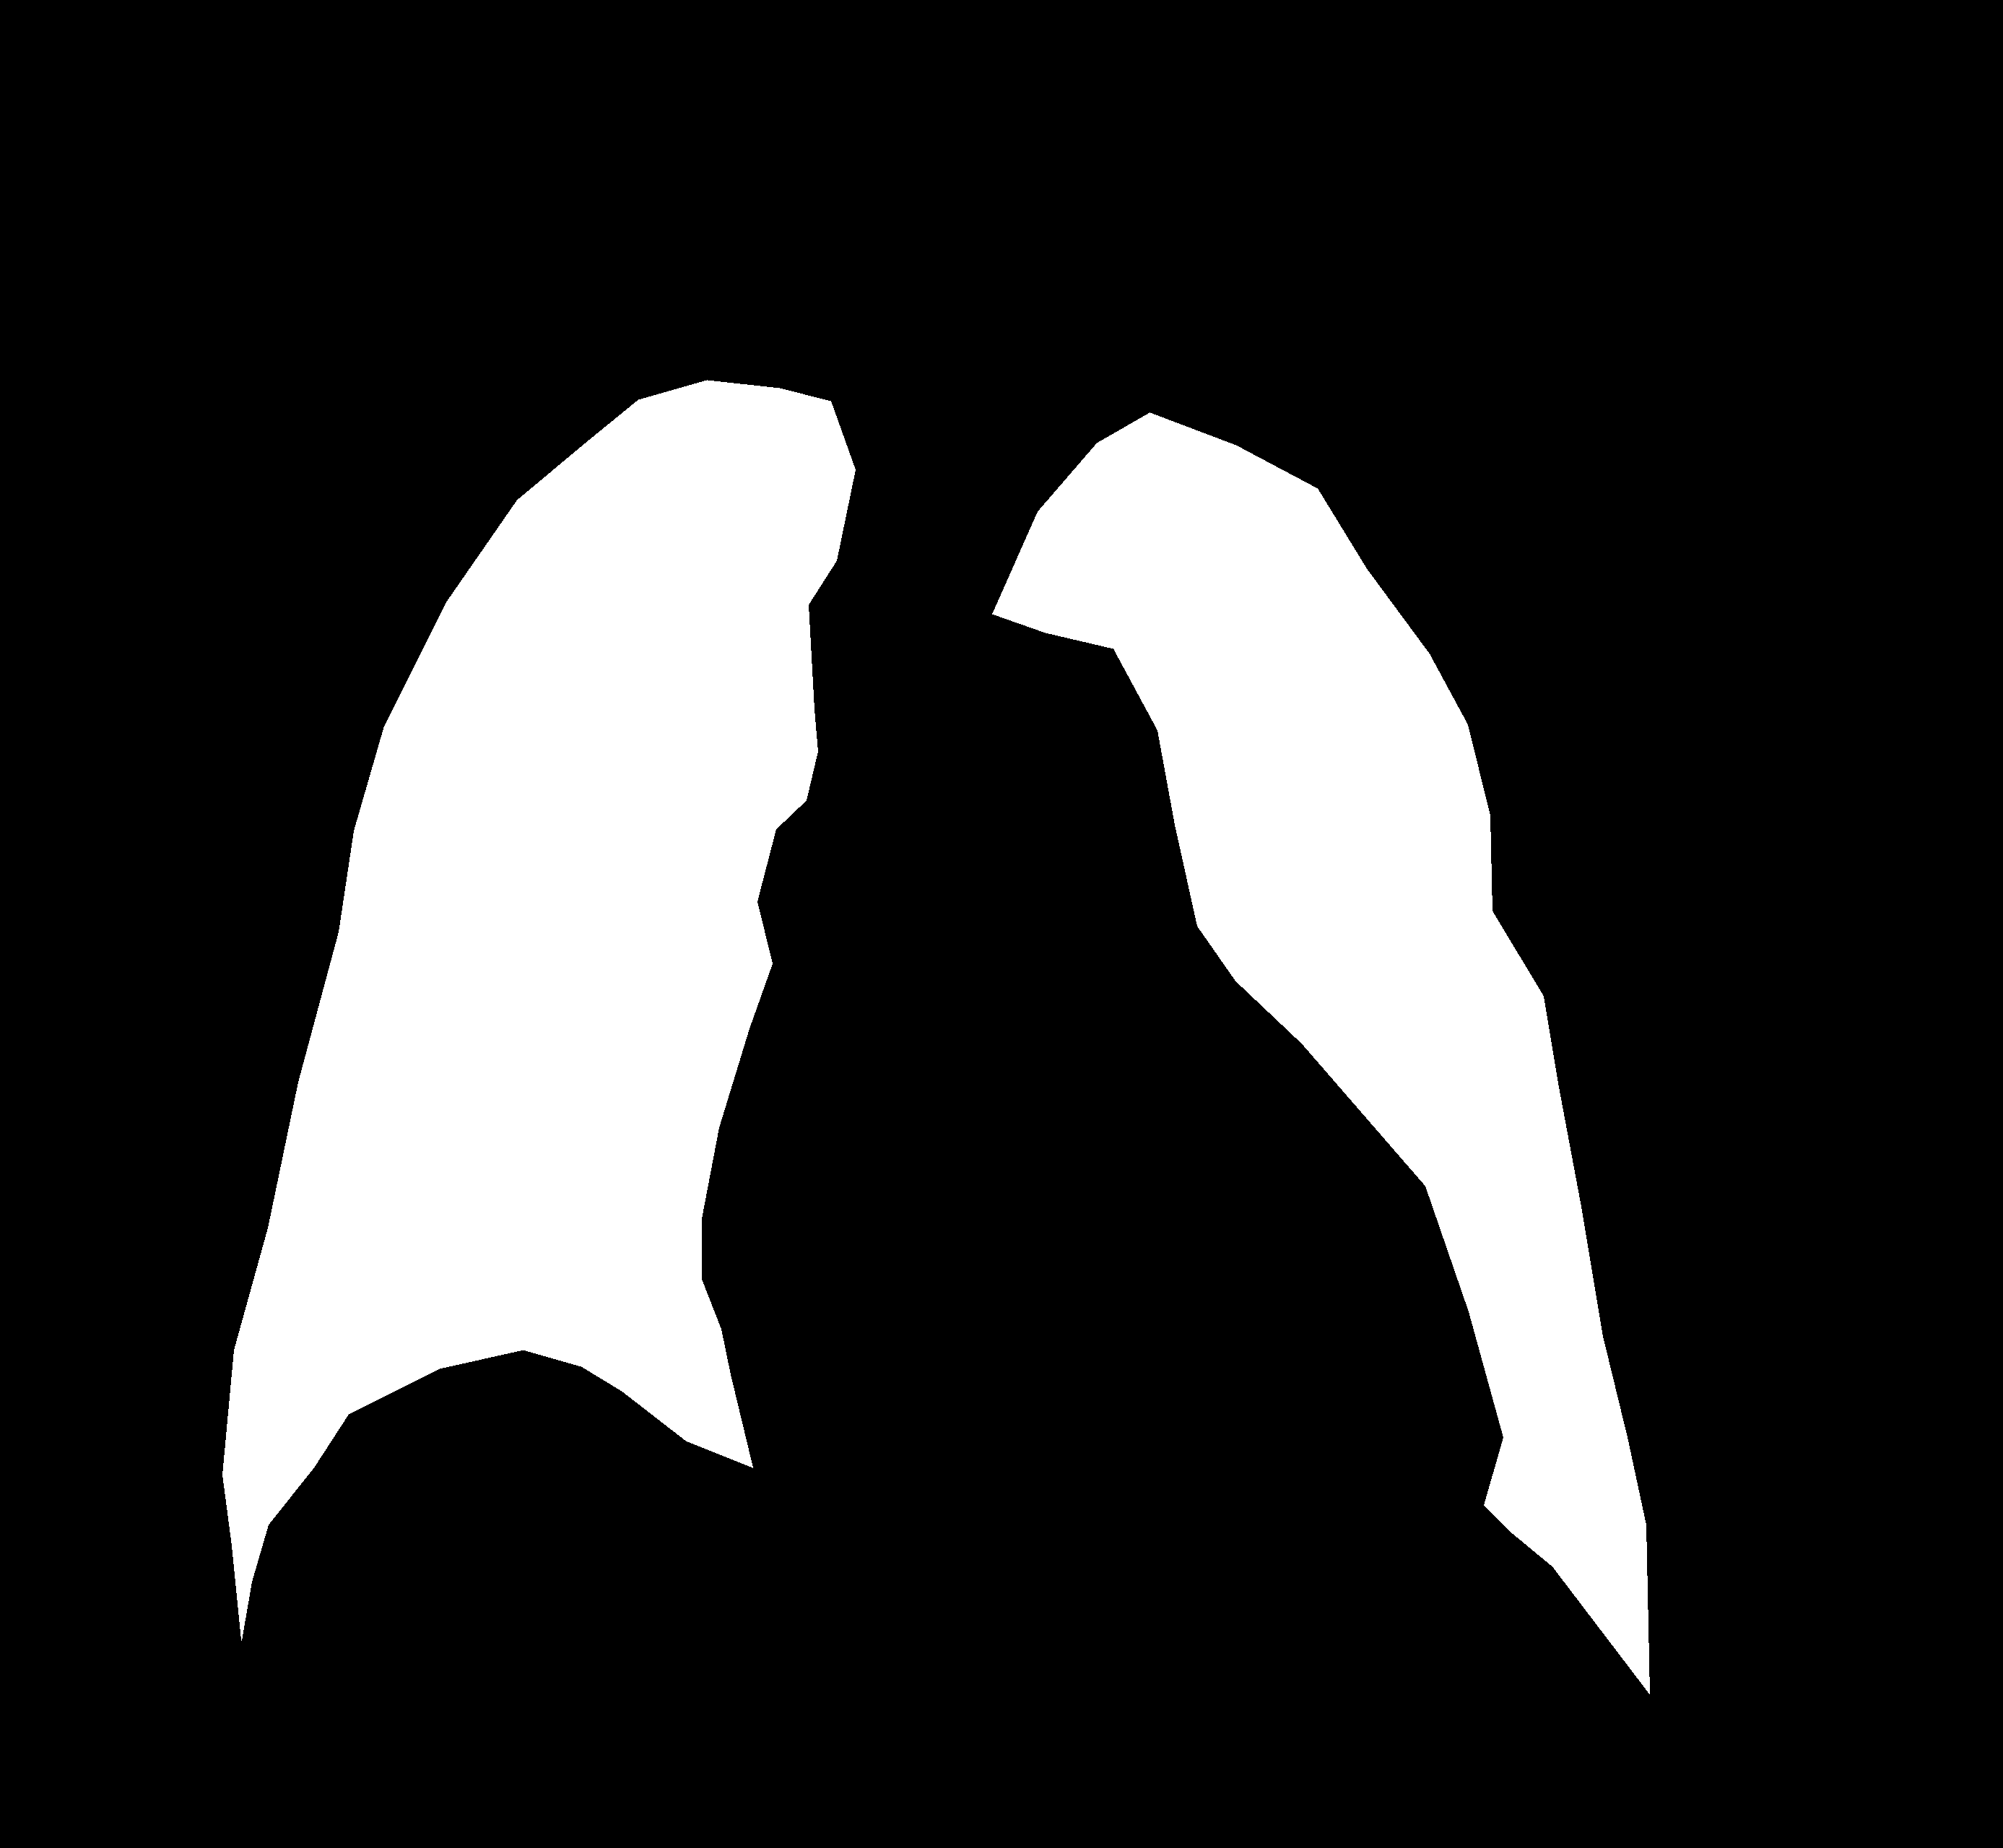heart: (707, 787, 1497, 1571)
left_lung: (222, 380, 855, 1640)
right_lung: (993, 412, 1649, 1693)
